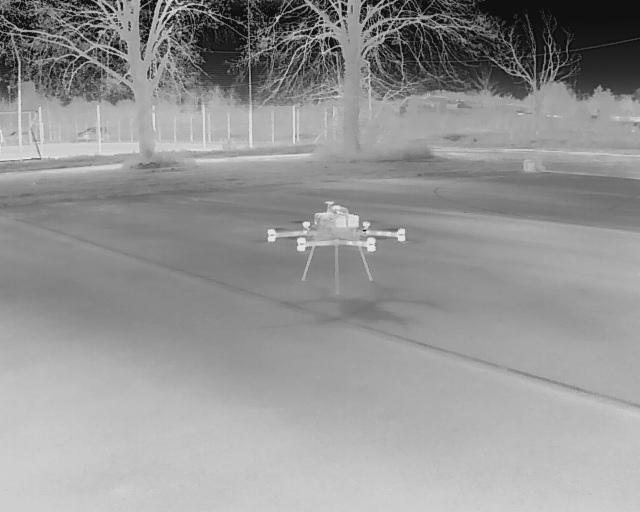drone: (243, 200, 417, 304)
